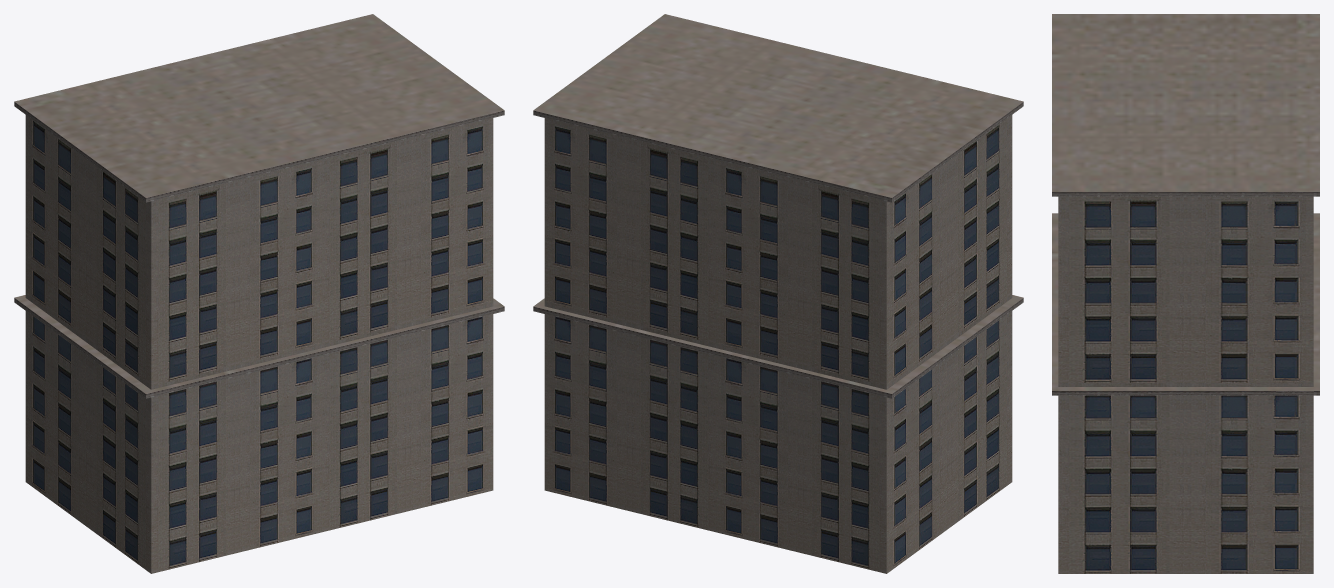
The model's file is Background A.fbx.
The picture shows the model from 3 angles, left to right: view 1: azimuth 30°, elevation 25°; view 2: azimuth 150°, elevation 25°; view 3: azimuth 270°, elevation 25°; orthographic projection.
Parts seen in each view (by area): view 1: Background A; view 2: Background A; view 3: Background A.
Part boxes in pixels (<box>): Background A: <box>14,14,504,573</box>; Background A: <box>533,14,1023,573</box>; Background A: <box>1052,14,1319,573</box>.
Size of the model in its own units: 11.32 by 11.46 by 7.2.
Materials: 1 (1 with a texture image).
